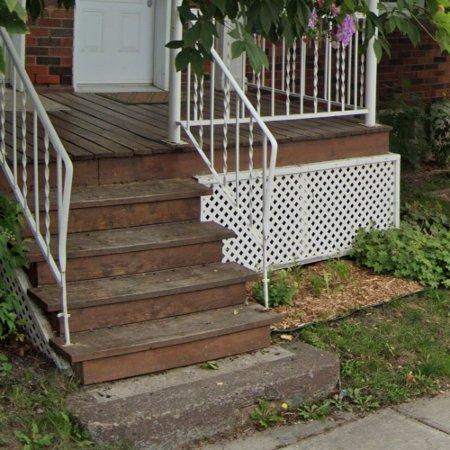stairs: (0, 29, 278, 385)
